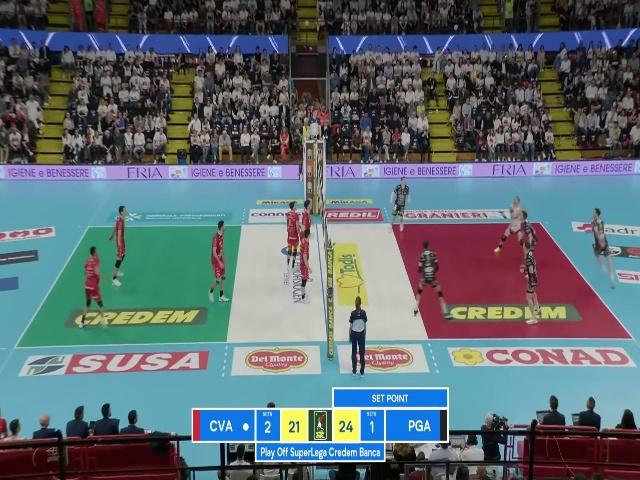volleyball court: (15, 218, 632, 349)
